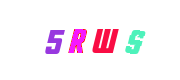5: (26, 0, 106, 80)
R: (49, 0, 129, 80)
S: (95, 0, 175, 80)
W: (62, 0, 142, 80)
